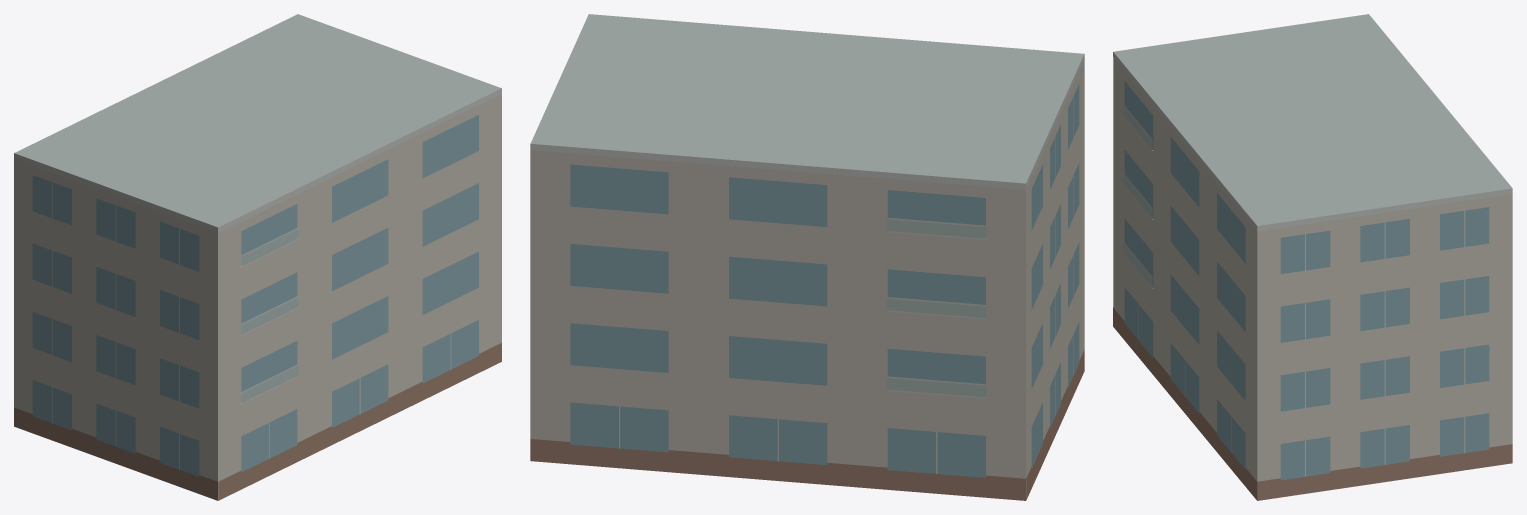
File: residential-1de887f2-b2b8-499b-93de-9ede062a1a48.glb
The picture shows the model from 3 angles, left to right: view 1: azimuth 30°, elevation 25°; view 2: azimuth 150°, elevation 25°; view 3: azimuth 270°, elevation 25°; orthographic projection. The views are drawn at different scales.
Parts seen in each view (by area): view 1: residential-1de887f2-b2b8-499b-93de-9ede062a1a48.tmp; view 2: residential-1de887f2-b2b8-499b-93de-9ede062a1a48.tmp; view 3: residential-1de887f2-b2b8-499b-93de-9ede062a1a48.tmp.
Part boxes in pixels (box(x1,y1,x2,y2)): residential-1de887f2-b2b8-499b-93de-9ede062a1a48.tmp: box(14, 14, 501, 500); residential-1de887f2-b2b8-499b-93de-9ede062a1a48.tmp: box(530, 14, 1084, 500); residential-1de887f2-b2b8-499b-93de-9ede062a1a48.tmp: box(1113, 14, 1512, 500).
Bounding box in the file's own units: 20.2 × 12.2 × 16.09.
